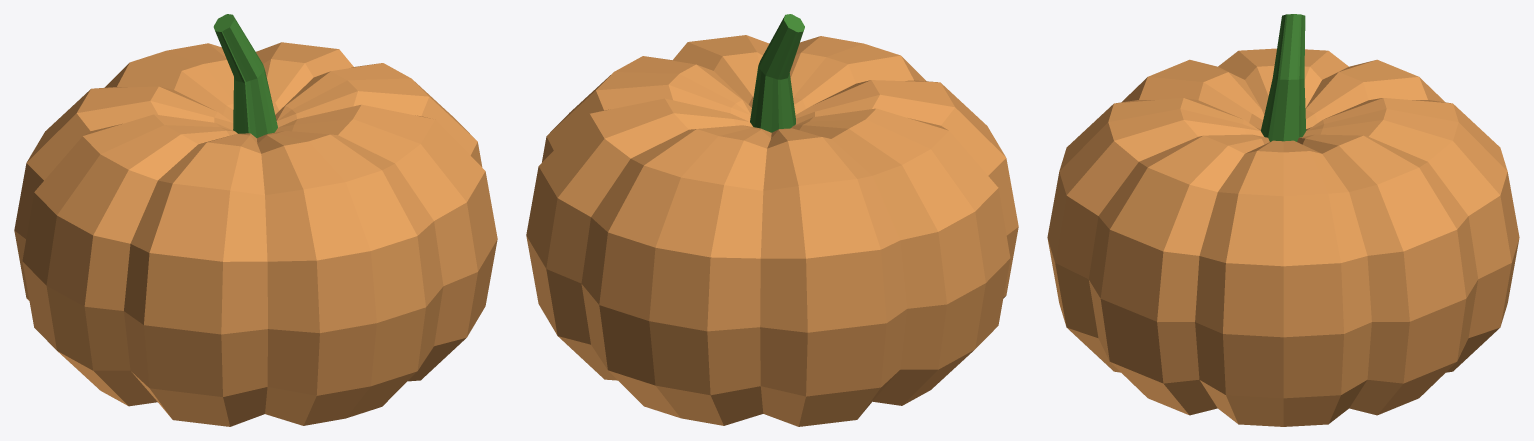
Rendered from pumkin.glb.
3 renders of one model, left to right at view 1: azimuth 30°, elevation 25°; view 2: azimuth 150°, elevation 25°; view 3: azimuth 270°, elevation 25°, orthographic. The views are drawn at different scales.
Visible parts, largest first — view 1: Cube; view 2: Cube; view 3: Cube.
Part boxes in pixels (x1,y1,x2,y2): Cube: [14, 14, 497, 426]; Cube: [526, 14, 1018, 426]; Cube: [1047, 14, 1519, 426].
Size of the model in its own units: 2 by 1.61 by 2.
